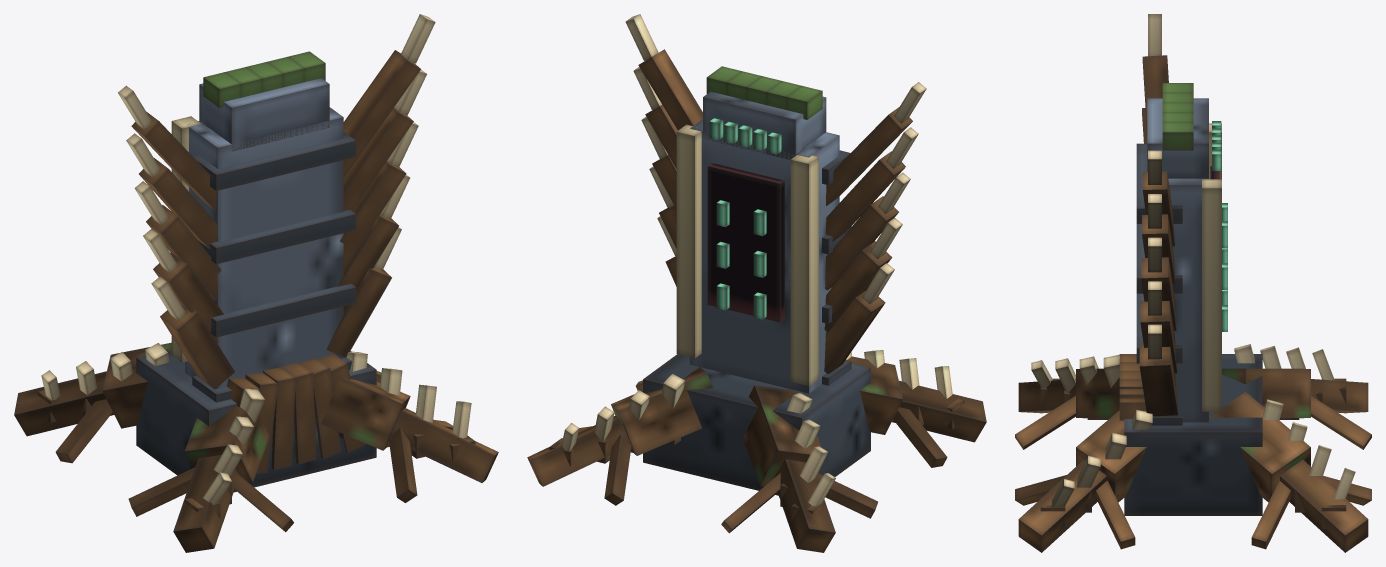
The model's file is grave_thorn.obj.
The picture shows the model from 3 angles, left to right: view 1: azimuth 30°, elevation 25°; view 2: azimuth 150°, elevation 25°; view 3: azimuth 270°, elevation 25°; orthographic projection. The views are drawn at different scales.
Parts seen in each view (by area): view 1: body__tomb_slab, body__grave_anchor, head__slab_crown, root_lash_0__root_lash_0_root, head__crown_thorn_1_4, body__strata_course_3, body__strata_course_2, root_lash_0__root_lash_0_runner, body__strata_course_1, root_lash_1__root_lash_1_runner, root_lash_1__root_lash_1_root, root_lash_2__root_lash_2_runner (+34 smaller); view 2: body__grave_anchor, body__tomb_slab, body__inscribed_recess, body__carved_border_-1, body__carved_border_1, head__slab_crown, root_lash_2__root_lash_2_root, root_lash_3__root_lash_3_root, root_lash_2__root_lash_2_runner, root_lash_1__root_lash_1_runner, root_lash_3__root_lash_3_runner, head__crown_thorn_1_4 (+24 smaller); view 3: body__grave_anchor, body__tomb_slab, body__carved_border_1, root_lash_3__root_lash_3_root, root_lash_3__root_lash_3_runner, head__slab_crown, root_lash_0__root_lash_0_runner, root_lash_2__root_lash_2_root, root_lash_0__root_lash_0_root, head__crown_thorn_1_0, root_lash_1__root_lash_1_root, root_lash_2__root_lash_2_runner (+27 smaller).
Part boxes in pixels (<box>): body__tomb_slab: <box>185,107,343,388</box>; body__grave_anchor: <box>136,350,376,492</box>; head__slab_crown: <box>199,78,329,151</box>; root_lash_0__root_lash_0_root: <box>315,377,410,450</box>; head__crown_thorn_1_4: <box>343,50,420,177</box>; body__strata_course_3: <box>193,132,356,190</box>; body__strata_course_2: <box>198,209,356,264</box>; root_lash_0__root_lash_0_runner: <box>389,408,498,482</box>; body__strata_course_1: <box>211,283,356,337</box>; root_lash_1__root_lash_1_runner: <box>173,455,237,552</box>; root_lash_1__root_lash_1_root: <box>185,406,269,482</box>; root_lash_2__root_lash_2_runner: <box>14,371,113,436</box>; body__grave_anchor: <box>643,354,870,495</box>; body__tomb_slab: <box>689,119,839,393</box>; body__inscribed_recess: <box>707,162,784,322</box>; body__carved_border_-1: <box>790,153,818,385</box>; body__carved_border_1: <box>676,124,701,358</box>; head__slab_crown: <box>703,91,826,159</box>; root_lash_2__root_lash_2_root: <box>743,385,821,486</box>; root_lash_3__root_lash_3_root: <box>611,367,713,455</box>; root_lash_2__root_lash_2_runner: <box>774,459,835,552</box>; root_lash_1__root_lash_1_runner: <box>892,380,986,442</box>; root_lash_3__root_lash_3_runner: <box>527,415,631,486</box>; head__crown_thorn_1_4: <box>638,49,702,130</box>; body__grave_anchor: <box>1124,354,1262,515</box>; body__tomb_slab: <box>1168,178,1208,422</box>; body__carved_border_1: <box>1202,179,1221,411</box>; root_lash_3__root_lash_3_root: <box>1209,392,1310,502</box>; root_lash_3__root_lash_3_runner: <box>1280,460,1368,552</box>; head__slab_crown: <box>1147,98,1208,178</box>; root_lash_0__root_lash_0_runner: <box>1018,460,1106,552</box>; root_lash_2__root_lash_2_root: <box>1222,368,1310,418</box>; root_lash_0__root_lash_0_root: <box>1076,410,1146,502</box>; head__crown_thorn_1_0: <box>1139,344,1177,416</box>; root_lash_1__root_lash_1_root: <box>1076,368,1119,418</box>; root_lash_2__root_lash_2_runner: <box>1311,379,1368,413</box>.
Bounding box in the file's own units: 1.46 × 1.8 × 1.45.
Materials: 1 (1 with a texture image).
